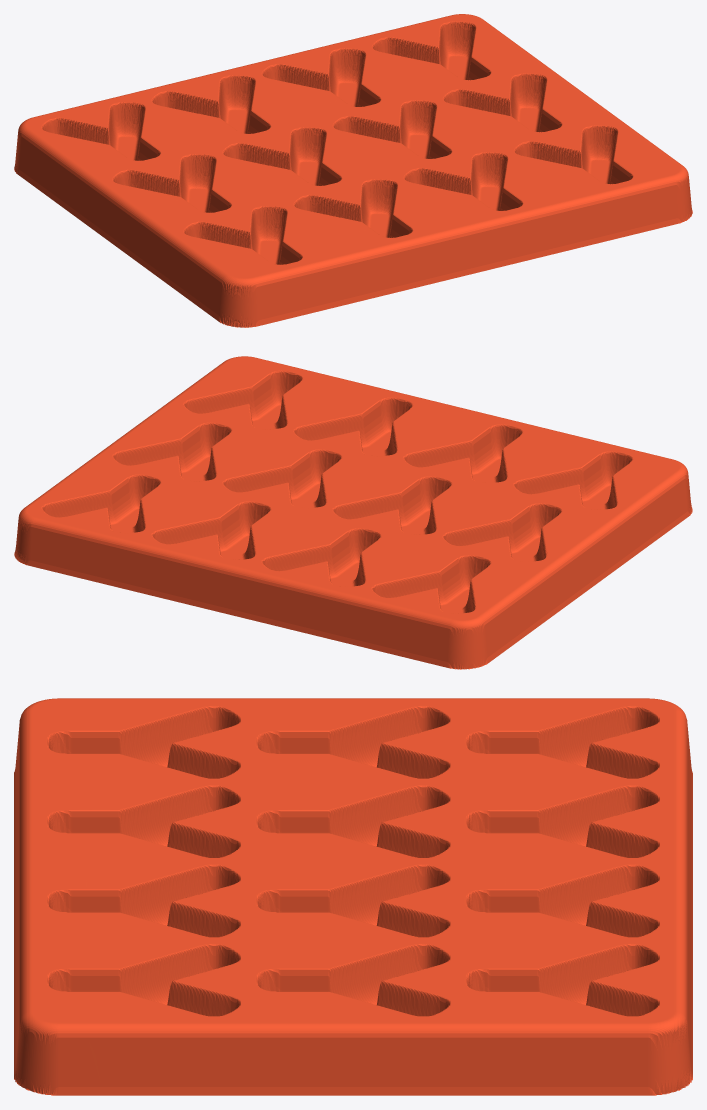
The model's file is mold.glb.
The picture shows the model from 3 angles, top to bottom: view 1: azimuth 30°, elevation 25°; view 2: azimuth 150°, elevation 25°; view 3: azimuth 270°, elevation 25°; orthographic projection. The views are drawn at different scales.
Visible parts, largest first — view 1: geometry_0; view 2: geometry_0; view 3: geometry_0.
Boxes of the visible parts, bbox=[...] form: geometry_0: bbox=[14, 14, 692, 327]; geometry_0: bbox=[14, 356, 692, 669]; geometry_0: bbox=[14, 698, 692, 1095].
Bounding box in the file's own units: 0.1621 × 0.0145 × 0.1374.
